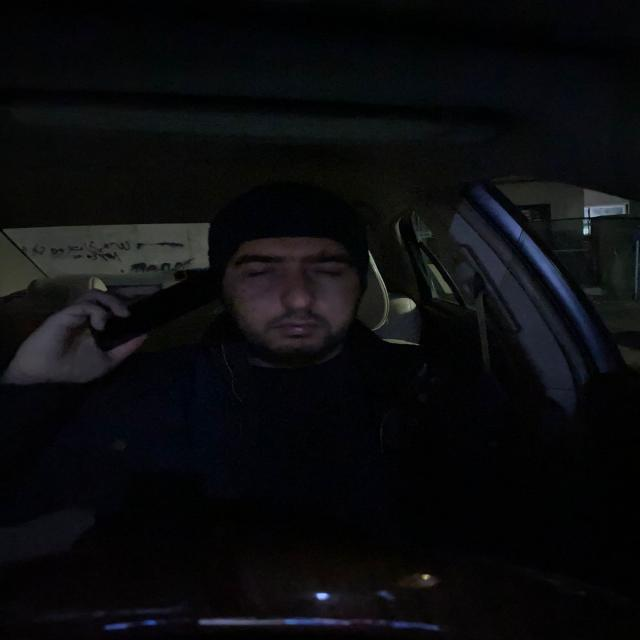mobile: (93, 286, 206, 353)
person: (212, 177, 381, 364)
